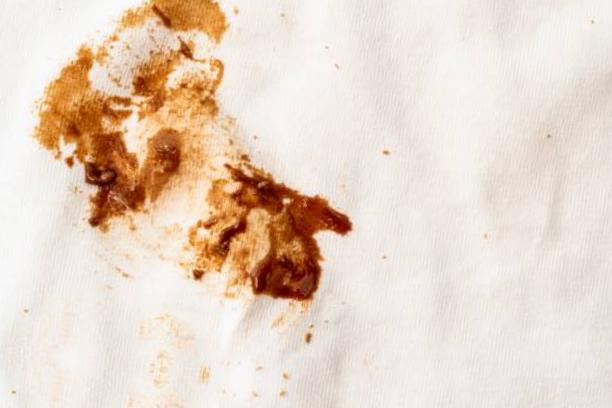stain: (35, 1, 382, 316)
